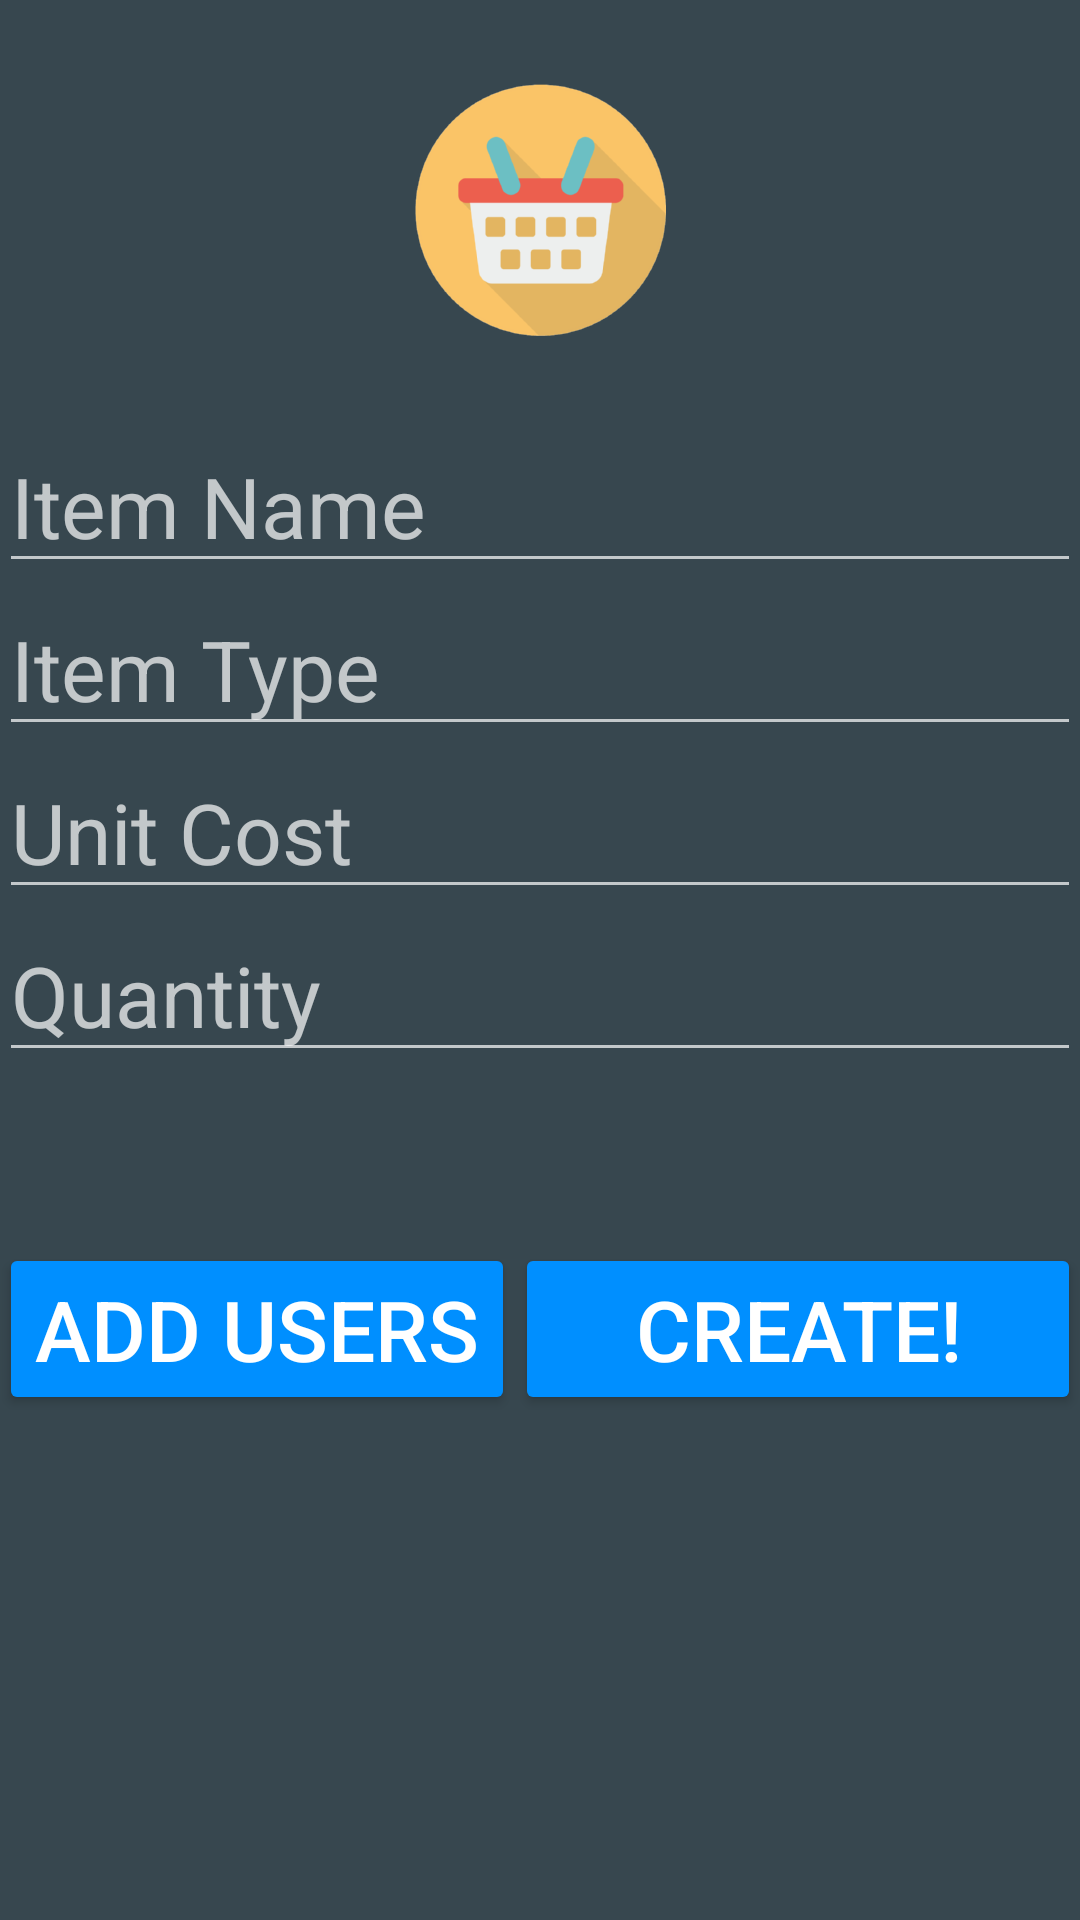

Icon bounding boxes for this 1080 x 1920 phone screenshot, format (x1, y1, x2, y2):
purchase: (415, 84, 666, 336)
